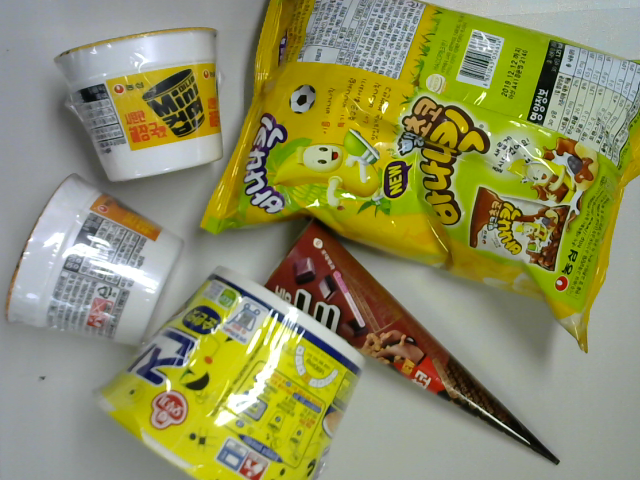Banana_Kick: (191, 2, 640, 357)
Hejangmini: (45, 23, 227, 187)
Jinlamyeon_Mild_Taste_Large_Cup: (83, 261, 370, 480)
Udongmini: (2, 175, 192, 355)
World_Cone_Choco: (251, 209, 569, 467)
